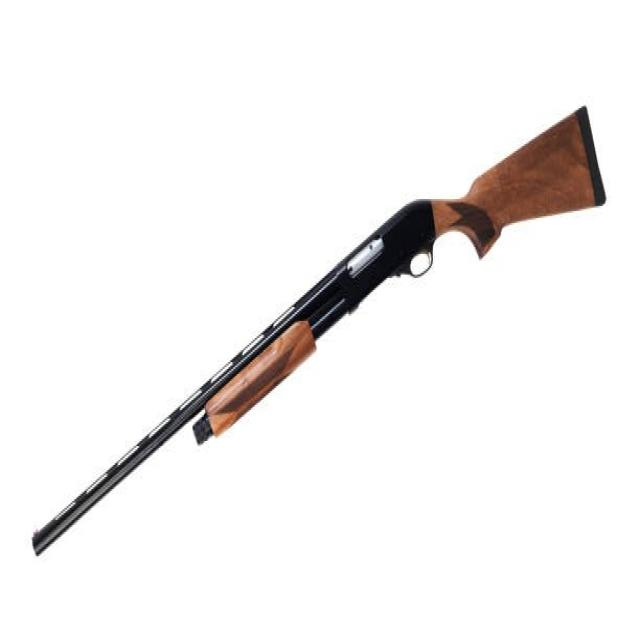rifle: (26, 95, 611, 567)
